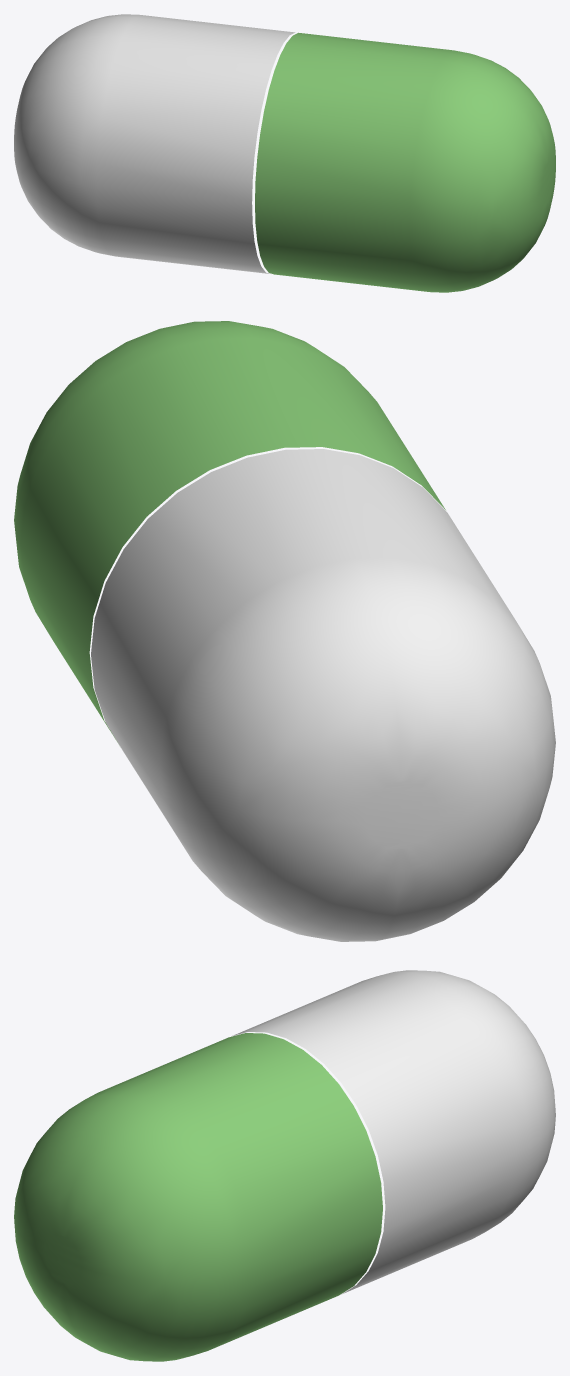
Rendered from 이홍규.gltf.
The picture shows the model from 3 angles, top to bottom: view 1: azimuth 30°, elevation 25°; view 2: azimuth 150°, elevation 25°; view 3: azimuth 270°, elevation 25°; orthographic projection. The views are drawn at different scales.
Visible parts, largest first — view 1: 이홍규, 이홍규2; view 2: 이홍규2, 이홍규; view 3: 이홍규, 이홍규2.
Boxes of the visible parts, <box> form: 이홍규: <box>255,32,555,292</box>; 이홍규2: <box>14,14,295,273</box>; 이홍규2: <box>91,449,555,941</box>; 이홍규: <box>14,321,445,742</box>; 이홍규: <box>14,1033,382,1361</box>; 이홍규2: <box>232,970,555,1293</box>.
Bounding box in the file's own units: 1.38 × 0.7125 × 1.38.
